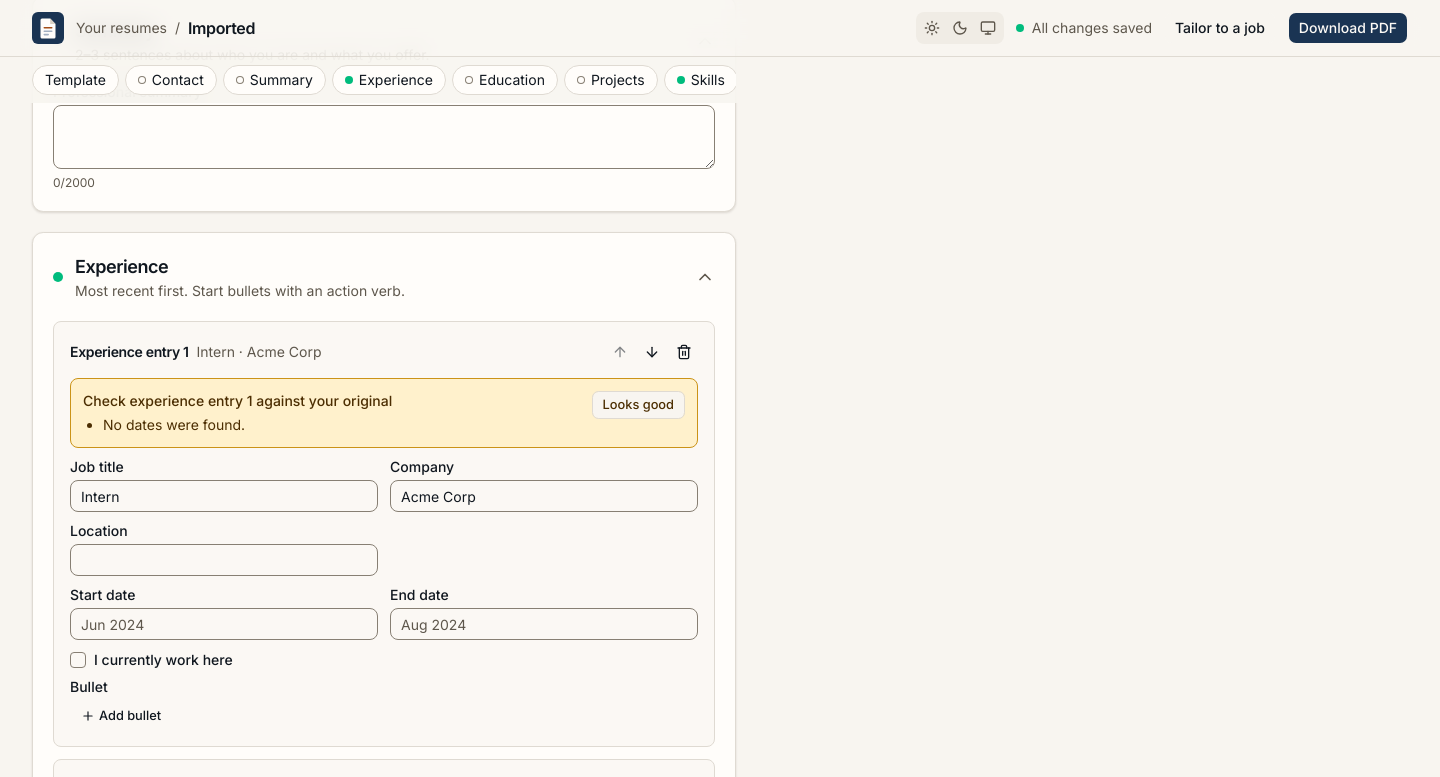
editor review of an imported resume › clears a note when the user confirms it, and updates the count
(page scrolled)
Click the button "Looks good" at (638, 405), box top-left (592, 391), bottom-right (685, 419)
(page scrolled)
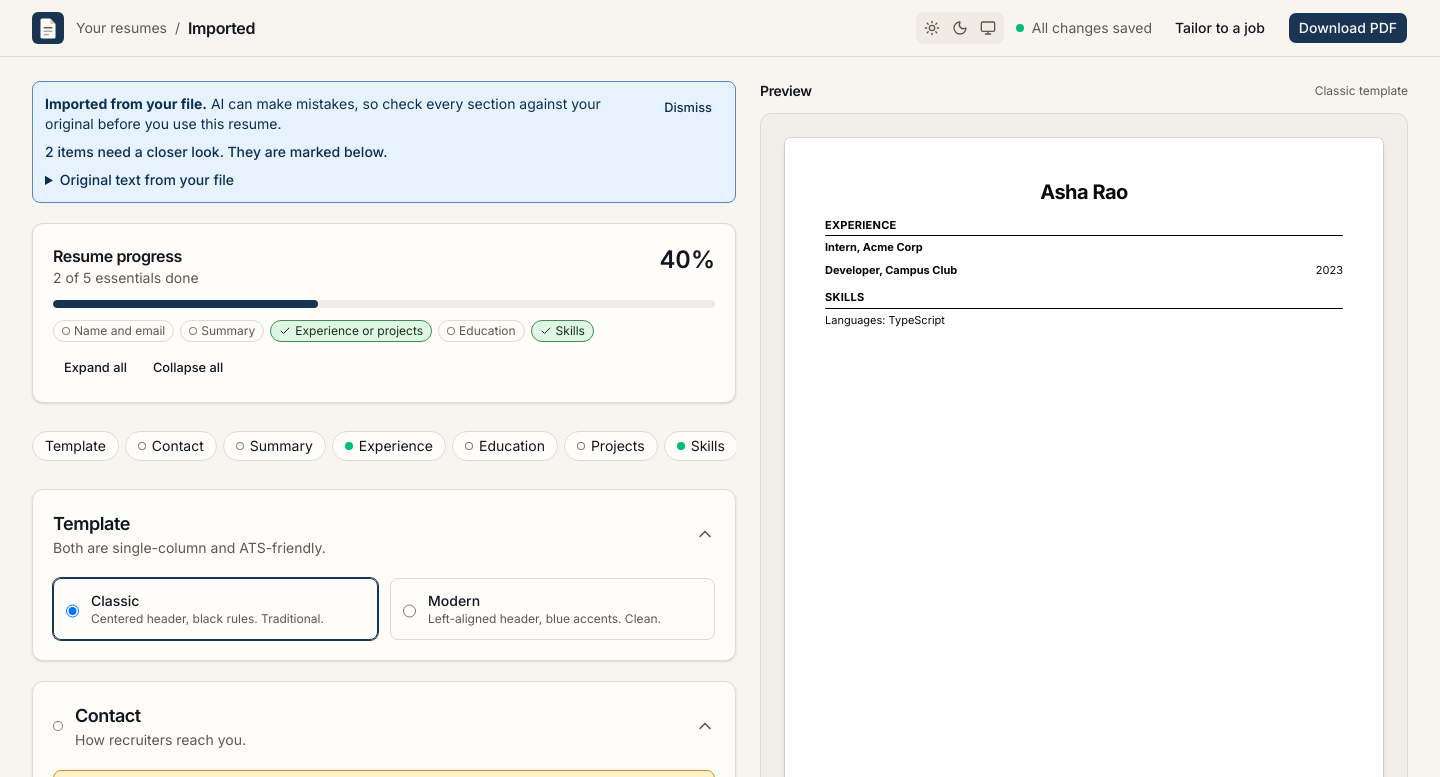
Now the number of elements with test id "review-note" is 2
Now the list item "No dates were found." is gone
Now the text with test id "review-count" shows "2 items need a closer look", box top-left (45, 143), bottom-right (387, 160)
